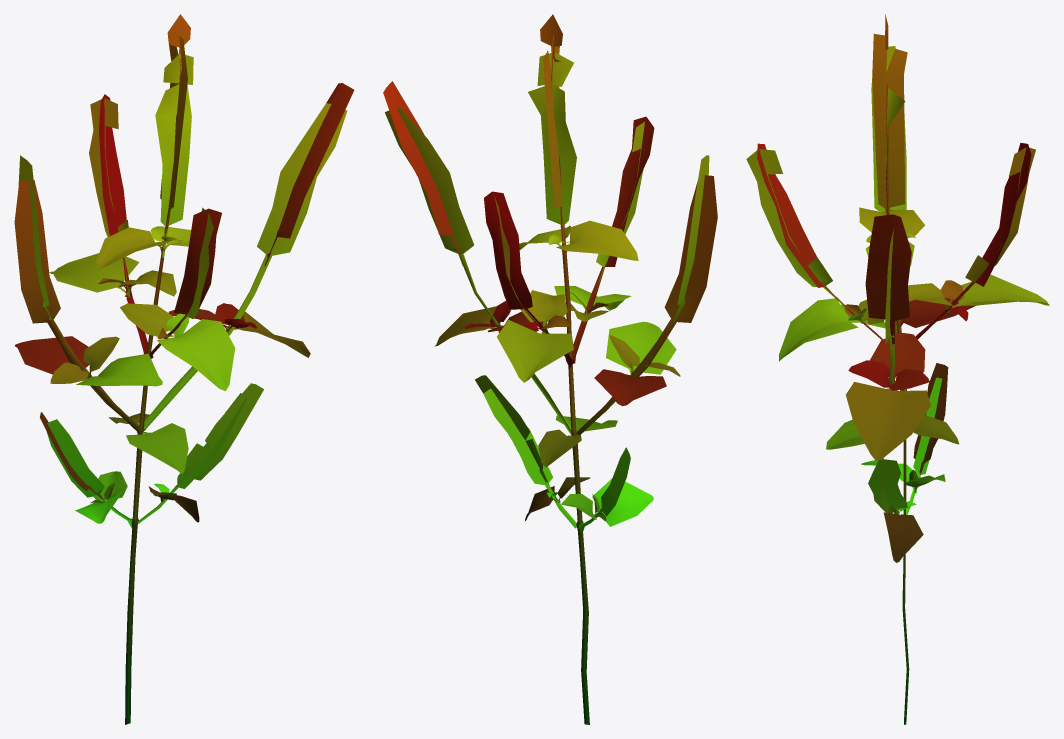
File: SM_OW_Shrub_c_LOD0.fbx
3 views of the same model, side by side, from view 1: azimuth 30°, elevation 25°; view 2: azimuth 150°, elevation 25°; view 3: azimuth 270°, elevation 25° (orthographic). The views are drawn at different scales.
Visible parts, largest first — view 1: SM_OW_Shrub_c_LOD0; view 2: SM_OW_Shrub_c_LOD0; view 3: SM_OW_Shrub_c_LOD0.
Part boxes in pixels (x1=…): SM_OW_Shrub_c_LOD0: x1=14, y1=14, x2=354, y2=724; SM_OW_Shrub_c_LOD0: x1=383, y1=14, x2=717, y2=724; SM_OW_Shrub_c_LOD0: x1=746, y1=14, x2=1049, y2=724.
Size of the model in its own units: 0.2006 by 0.4028 by 0.1512.
